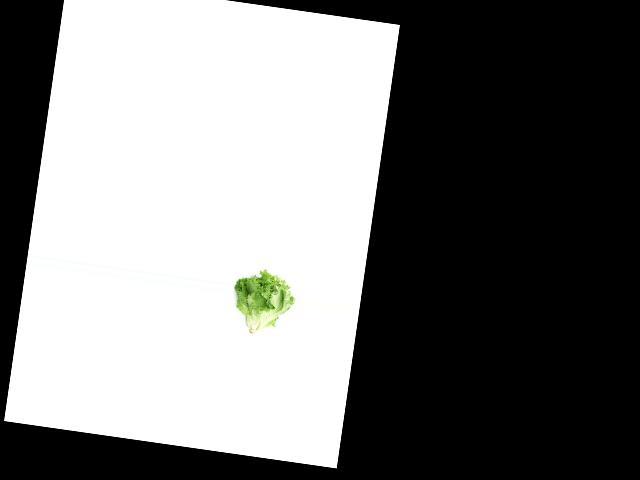lettuce: (227, 267, 299, 340)
